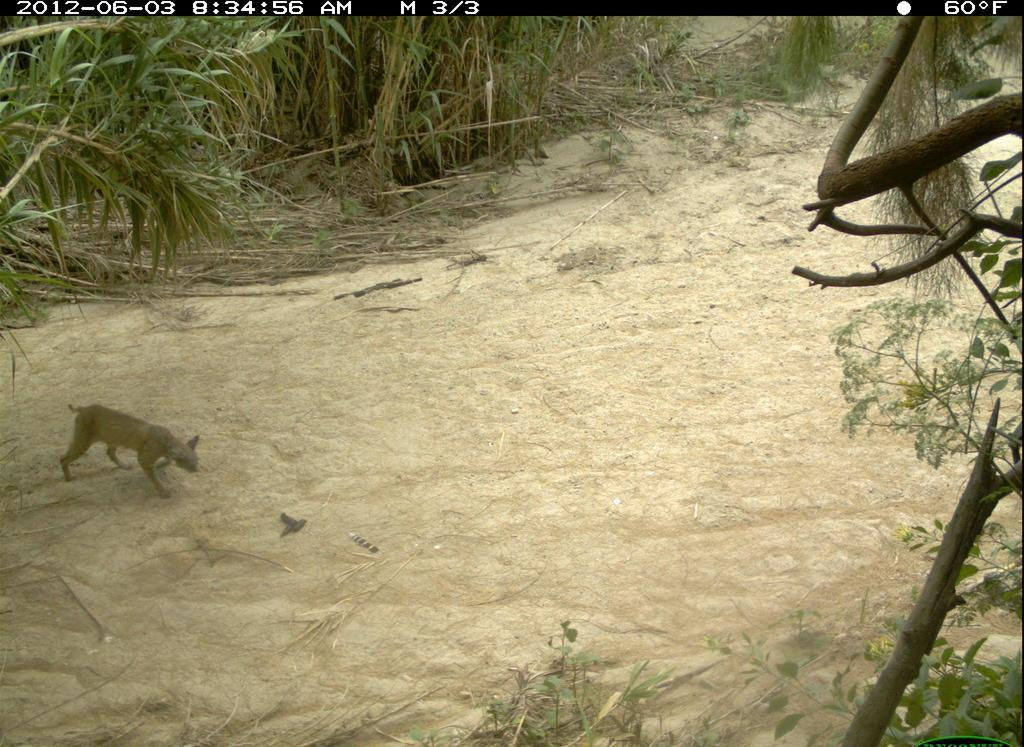bobcat: (58, 397, 208, 506)
